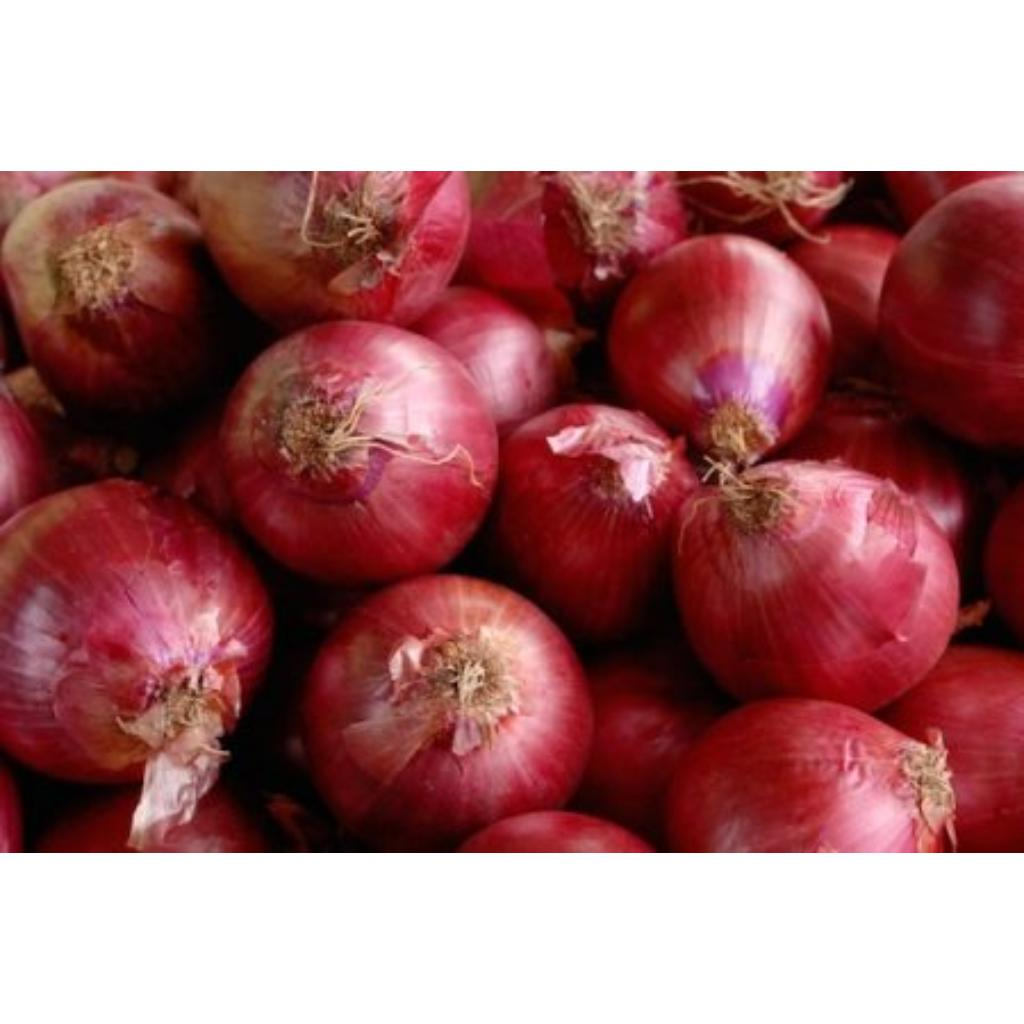Onion: (0, 480, 273, 850), (303, 576, 594, 854), (218, 321, 498, 586), (674, 462, 960, 711), (2, 178, 228, 413), (610, 235, 833, 466), (494, 405, 699, 641), (667, 701, 958, 854), (200, 171, 466, 329), (881, 176, 1024, 449), (881, 647, 1024, 854), (414, 287, 555, 434), (457, 813, 658, 854)
